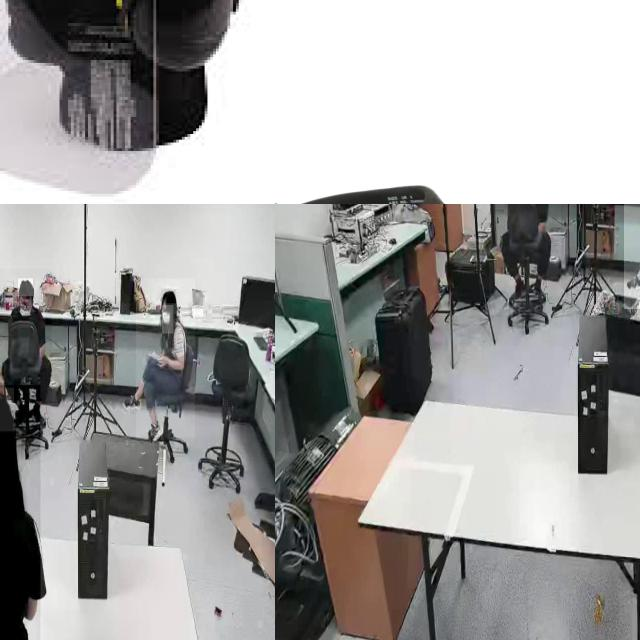Ear-protection: (113, 0, 233, 71)
face_mask: (162, 305, 174, 334)
hand_noglove: (155, 352, 169, 369)
head_nohelmet: (0, 387, 14, 432), (18, 279, 34, 297), (162, 289, 176, 304)
person: (0, 385, 40, 640), (136, 278, 196, 438), (0, 268, 52, 425), (489, 204, 561, 316)
shoes: (145, 416, 163, 449), (29, 401, 47, 428), (122, 393, 143, 415), (625, 267, 640, 297), (530, 275, 546, 303)
